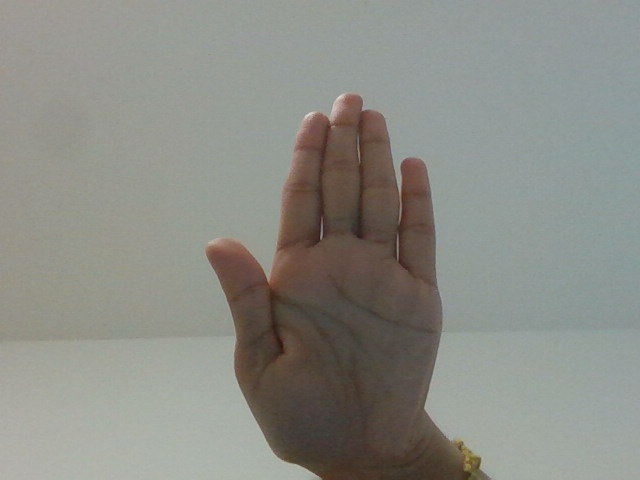Palm: (196, 81, 488, 473)
